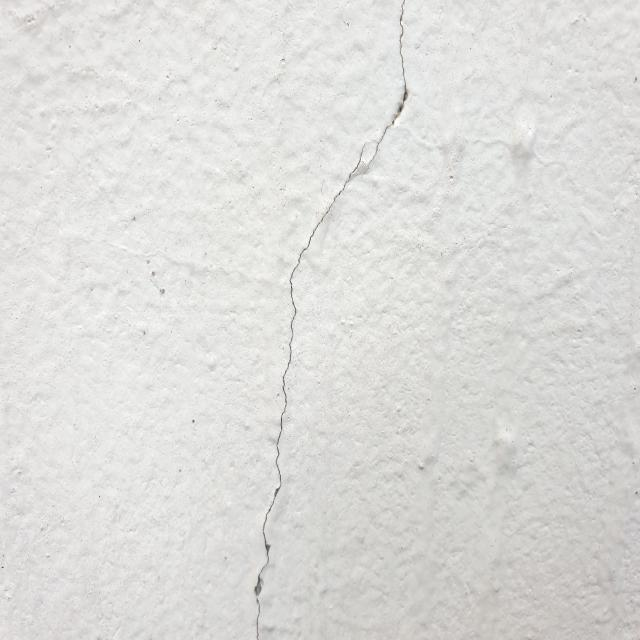SurfaceCrack: (217, 0, 442, 639)
